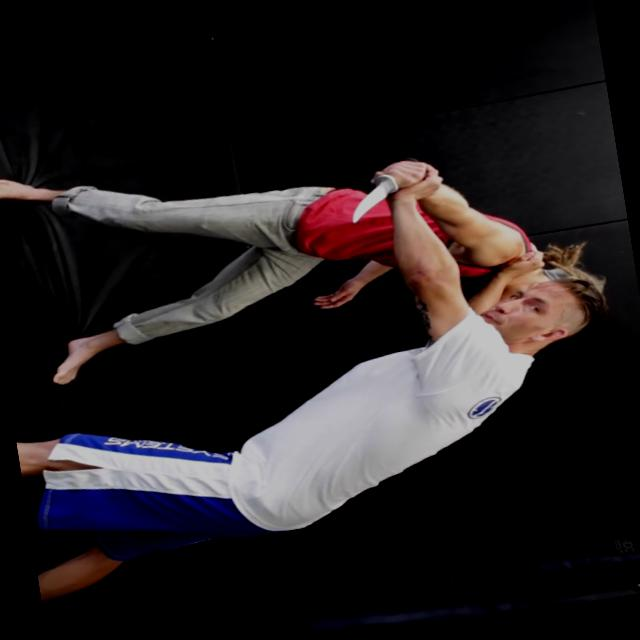knife: (331, 153, 434, 230)
